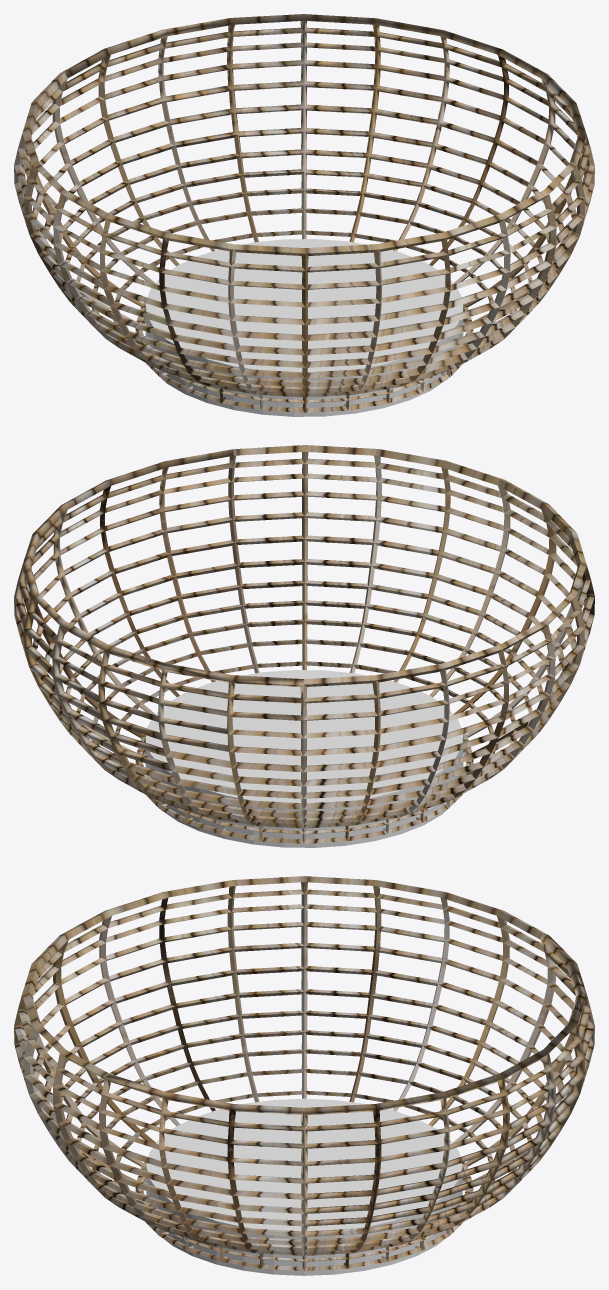
The model's file is meyve_sepetiv2.fbx.
3 views of the same model, one above another, from view 1: azimuth 30°, elevation 25°; view 2: azimuth 150°, elevation 25°; view 3: azimuth 270°, elevation 25° (orthographic).
Parts seen in each view (by area): view 1: Cylinder, Cylinder.001; view 2: Cylinder, Cylinder.001; view 3: Cylinder, Cylinder.001.
Boxes of the visible parts, x1,y1,x2,y2 form: Cylinder: (14, 14, 594, 412); Cylinder.001: (145, 239, 463, 416); Cylinder: (14, 445, 594, 843); Cylinder.001: (145, 670, 463, 847); Cylinder: (14, 876, 594, 1270); Cylinder.001: (146, 1098, 462, 1275).
Size of the model in its own units: 37.88 by 15.78 by 38.19.
Materials: 1 (1 with a texture image).
